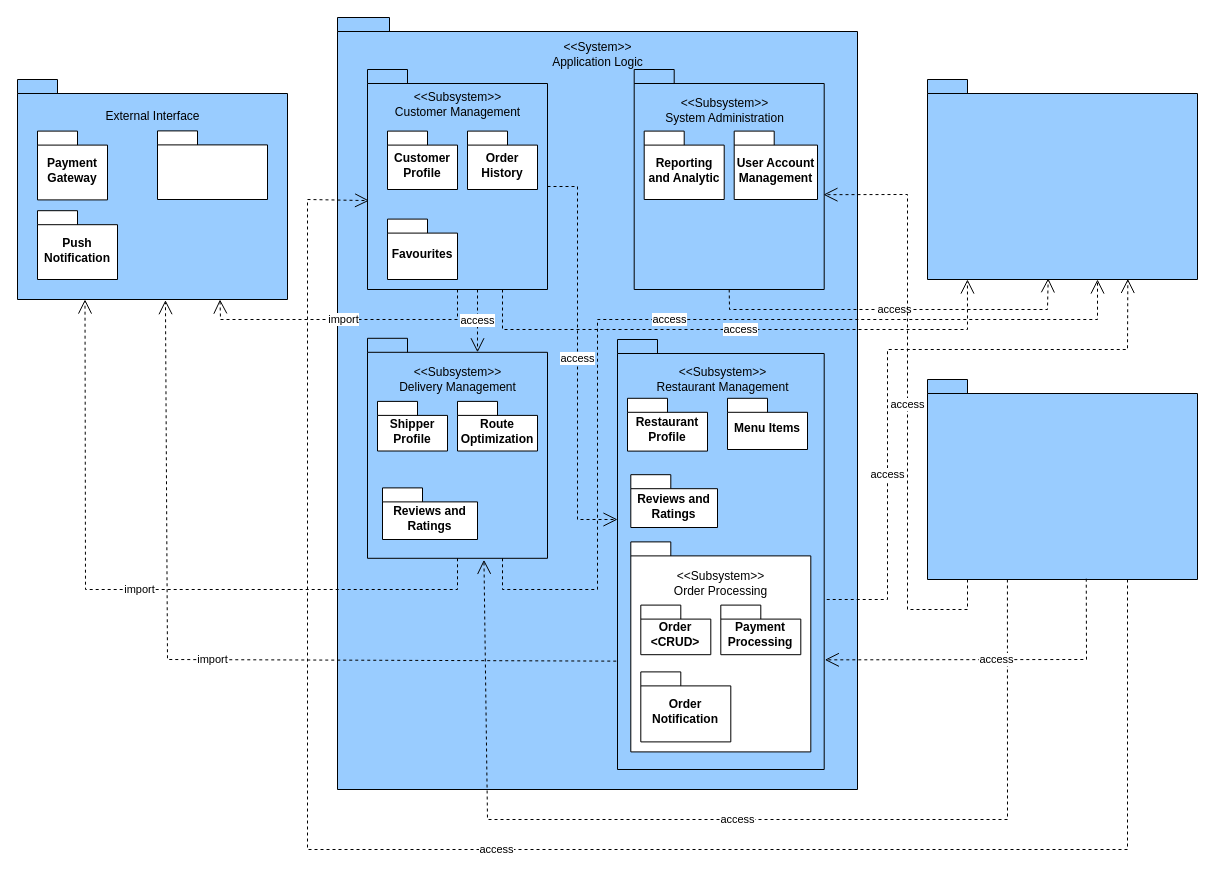
Image size: 1215x881. Some labels were removed from this diagram. Here are the shapes that lost their labels. From the top down, the box of each, then its label:
(156, 130, 268, 200): Maps and Location Services
(926, 78, 1198, 280): User Inteface
(926, 378, 1198, 580): Database Management
